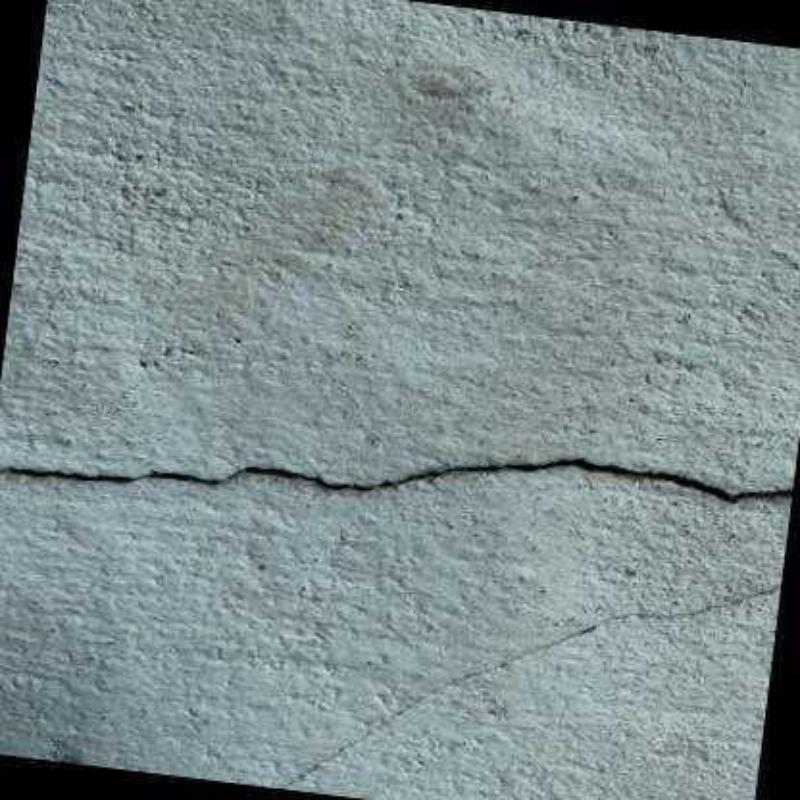pothole: (0, 459, 792, 503)
